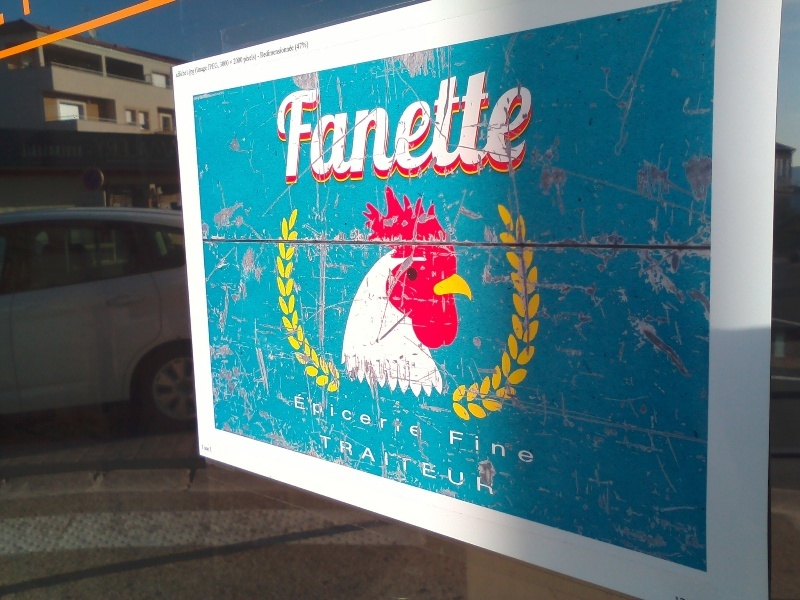text: (289, 64, 304, 187), (305, 64, 320, 187), (321, 64, 336, 187), (337, 64, 352, 187), (353, 64, 368, 187), (369, 64, 384, 187), (385, 64, 400, 187), (401, 64, 416, 187), (417, 64, 432, 187), (433, 64, 448, 187), (449, 64, 464, 187), (465, 64, 480, 187), (481, 64, 496, 187), (497, 64, 512, 187), (513, 64, 528, 187), (279, 64, 288, 187), (481, 433, 497, 497), (529, 64, 537, 187), (321, 433, 336, 497), (337, 433, 352, 497), (353, 433, 368, 497), (369, 433, 384, 497), (385, 433, 400, 497), (401, 433, 416, 497), (417, 433, 432, 497), (433, 433, 448, 497), (449, 433, 464, 497), (465, 433, 480, 497), (305, 392, 320, 441), (321, 392, 336, 441), (337, 392, 352, 441), (353, 392, 368, 441), (369, 392, 384, 441), (385, 392, 400, 441), (401, 392, 416, 441), (449, 427, 464, 466), (465, 427, 480, 466), (481, 427, 496, 466), (497, 427, 512, 466), (513, 427, 528, 466), (293, 392, 304, 441), (97, 134, 112, 161), (113, 134, 128, 161), (129, 134, 144, 161), (145, 134, 160, 161), (161, 134, 176, 161), (257, 44, 272, 65), (273, 44, 288, 65), (243, 44, 256, 65), (33, 143, 48, 161), (49, 143, 64, 161), (65, 143, 80, 161), (417, 392, 422, 441), (19, 143, 32, 161), (529, 427, 534, 466), (177, 67, 192, 79), (294, 40, 304, 53), (318, 433, 320, 497), (194, 66, 208, 75), (289, 44, 295, 65), (209, 62, 220, 72), (93, 134, 96, 161), (233, 56, 240, 66), (81, 143, 84, 161), (305, 40, 309, 53), (219, 59, 224, 69), (225, 59, 230, 69), (230, 61, 240, 65), (177, 134, 178, 161), (193, 67, 195, 79), (241, 56, 243, 66), (175, 67, 176, 79)
